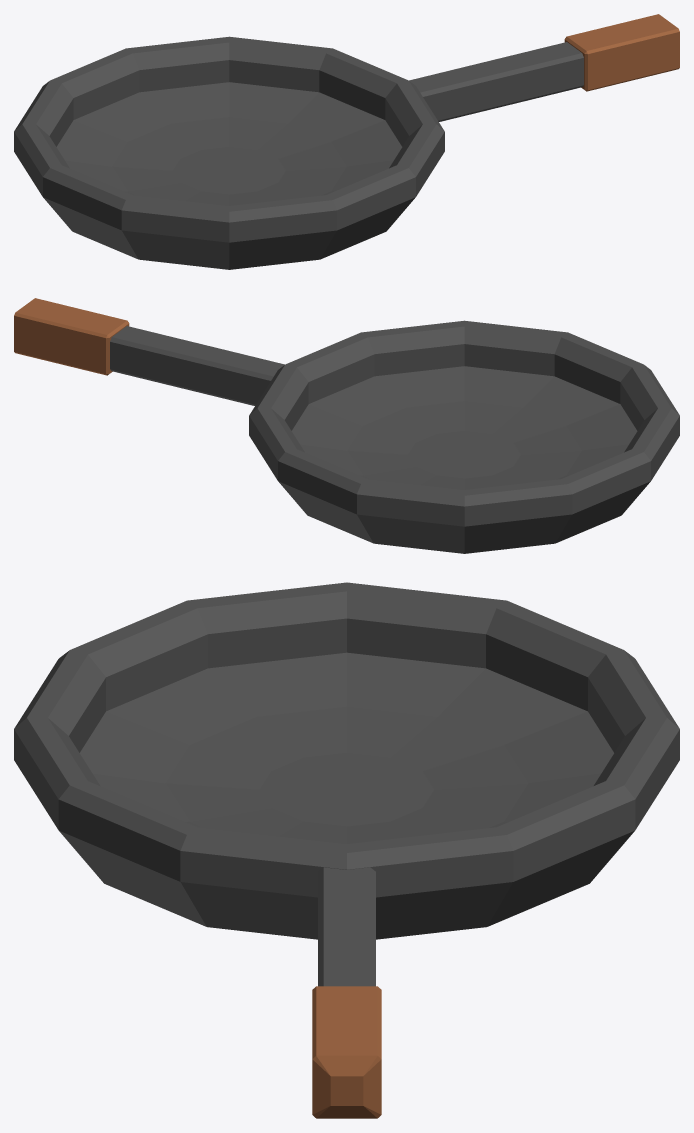
File: Pan.glb
3 views of the same model, one above another, from view 1: azimuth 30°, elevation 25°; view 2: azimuth 150°, elevation 25°; view 3: azimuth 270°, elevation 25° (orthographic). The views are drawn at different scales.
Visible parts, largest first — view 1: Pan; view 2: Pan; view 3: Pan.
Part boxes in pixels (x1=…): Pan: x1=14, y1=14, x2=679, y2=269; Pan: x1=14, y1=298, x2=679, y2=553; Pan: x1=14, y1=582, x2=679, y2=1118.
Size of the model in its own units: 189 by 19.73 by 112.
